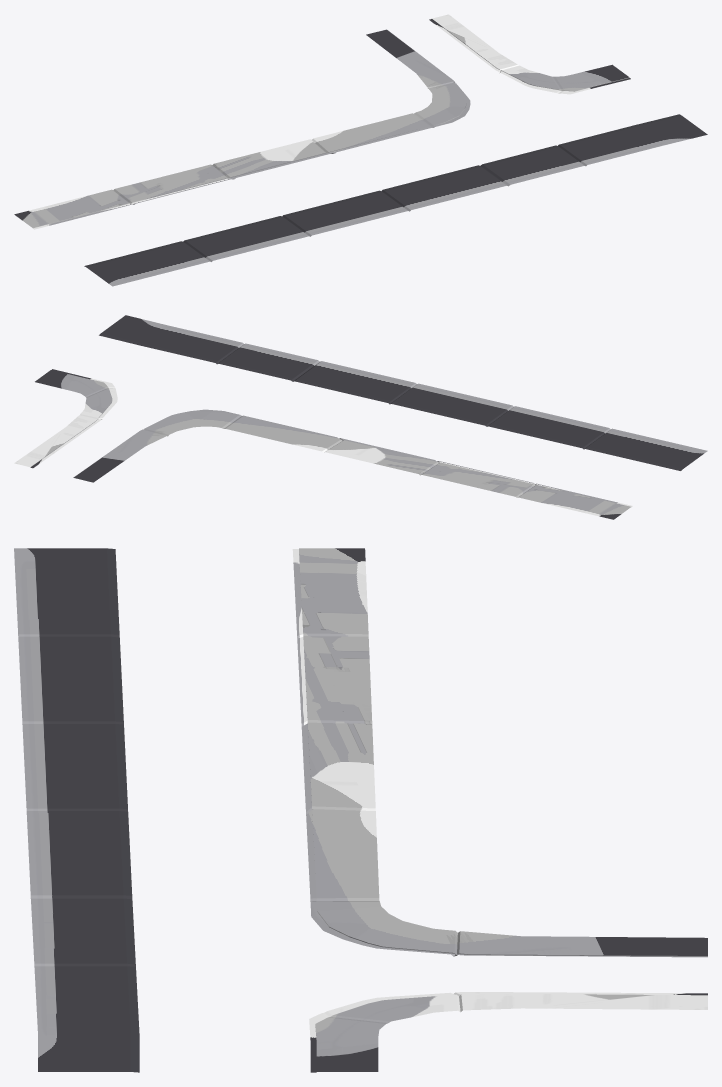
File: Pavement.fbx
The picture shows the model from 3 angles, top to bottom: view 1: azimuth 30°, elevation 25°; view 2: azimuth 150°, elevation 25°; view 3: azimuth 270°, elevation 25°; orthographic projection. The views are drawn at different scales.
Parts seen in each view (by area): view 1: Pavement; view 2: Pavement; view 3: Pavement.
Part boxes in pixels (left/top/right/bottom): Pavement: left=14, top=14, right=707, bottom=286; Pavement: left=14, top=315, right=707, bottom=519; Pavement: left=14, top=548, right=707, bottom=1072.
Bounding box in the file's own units: 5314 × 12.35 × 2977.
